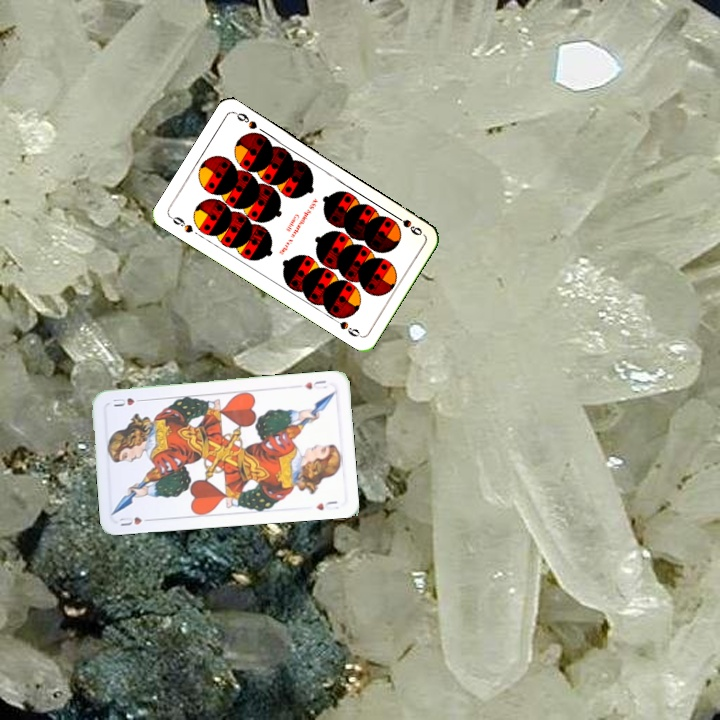HU: (115, 513, 155, 528), (300, 376, 329, 392)
S9: (389, 210, 425, 238), (166, 212, 196, 235)
